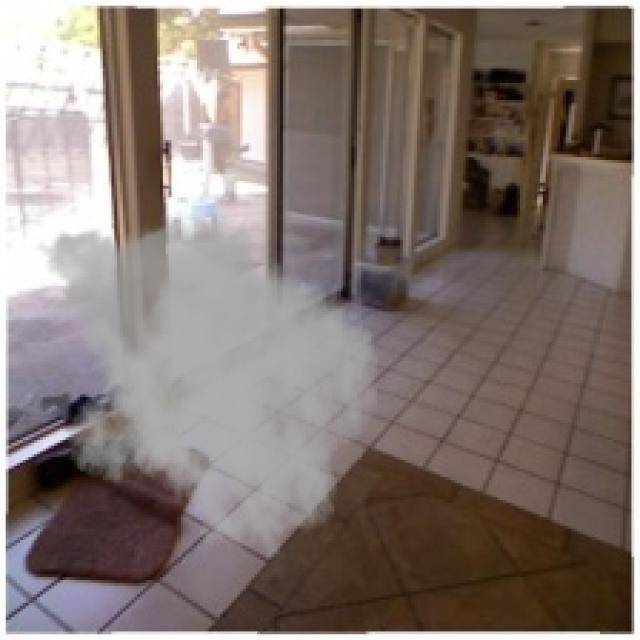smoke: (31, 209, 380, 560)
